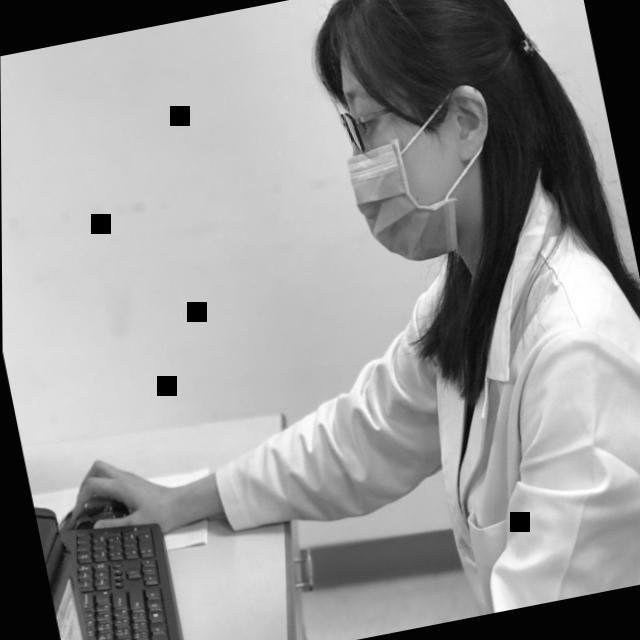Mask: (325, 45, 487, 274)
